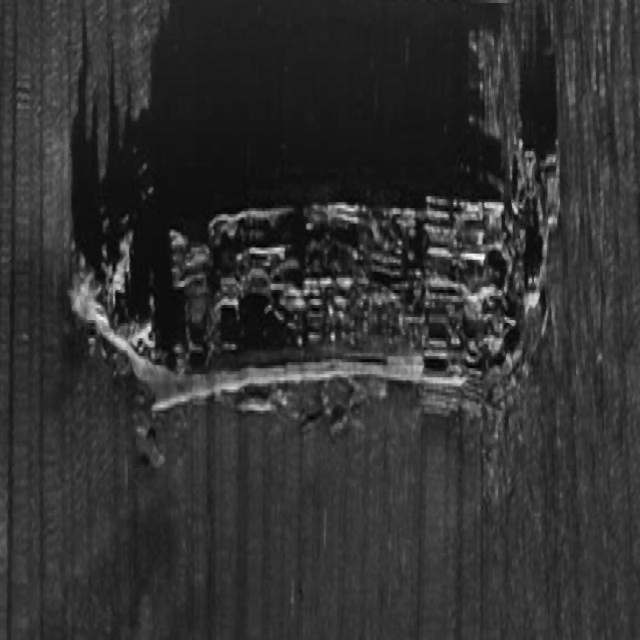Ship: (60, 81, 568, 441)
